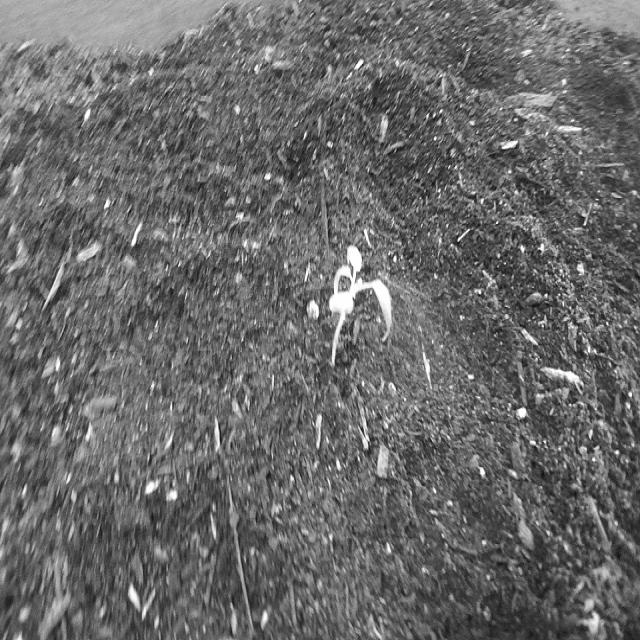Healthy: (320, 239, 400, 378)
